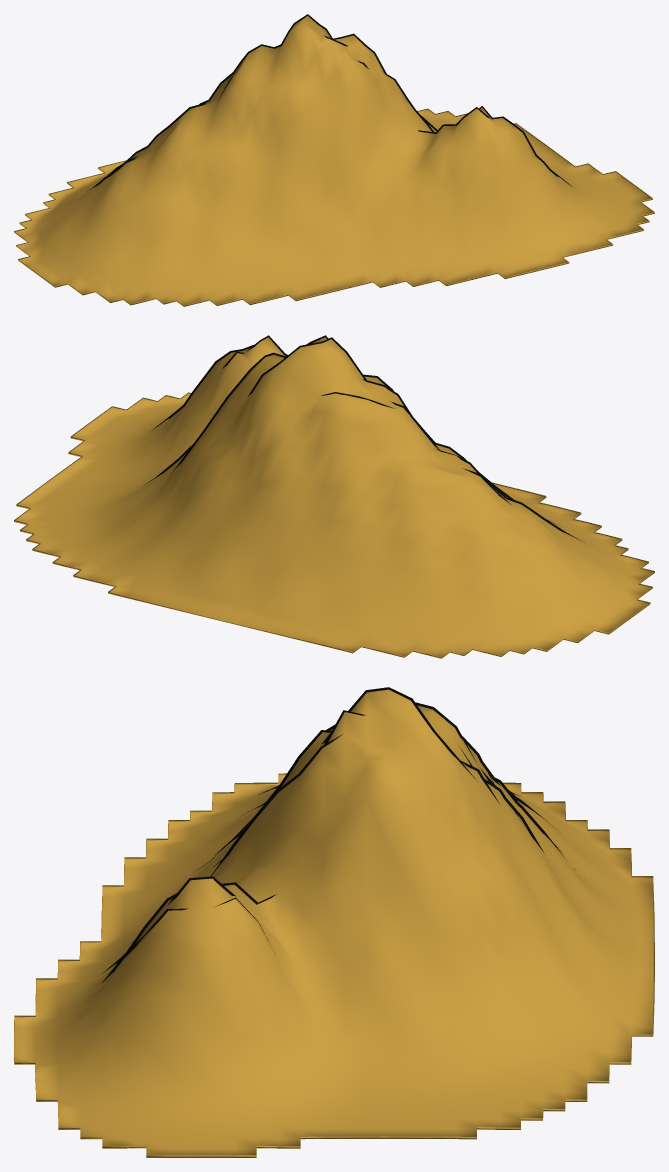
The model's file is heuhaufen.glb.
3 renders of one model, top to bottom at view 1: azimuth 30°, elevation 25°; view 2: azimuth 150°, elevation 25°; view 3: azimuth 270°, elevation 25°, orthographic. The views are drawn at different scales.
Visible parts, largest first — view 1: heuhaufen_koerper; view 2: heuhaufen_koerper; view 3: heuhaufen_koerper.
Boxes of the visible parts, x1,y1,x2,y2 form: heuhaufen_koerper: (14, 14, 654, 306); heuhaufen_koerper: (14, 335, 654, 658); heuhaufen_koerper: (14, 687, 654, 1157).
Bounding box in the file's own units: 98.77 × 32.36 × 68.36.
